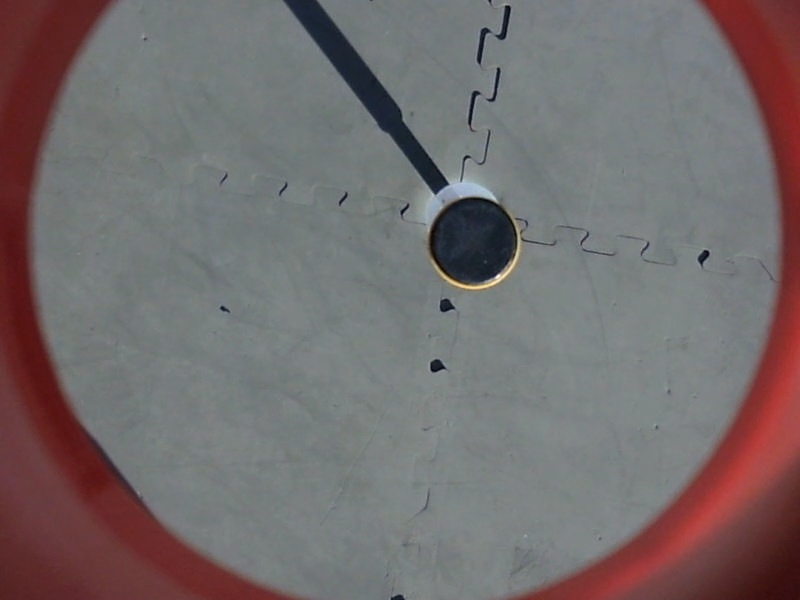tip: (422, 191, 526, 297)
